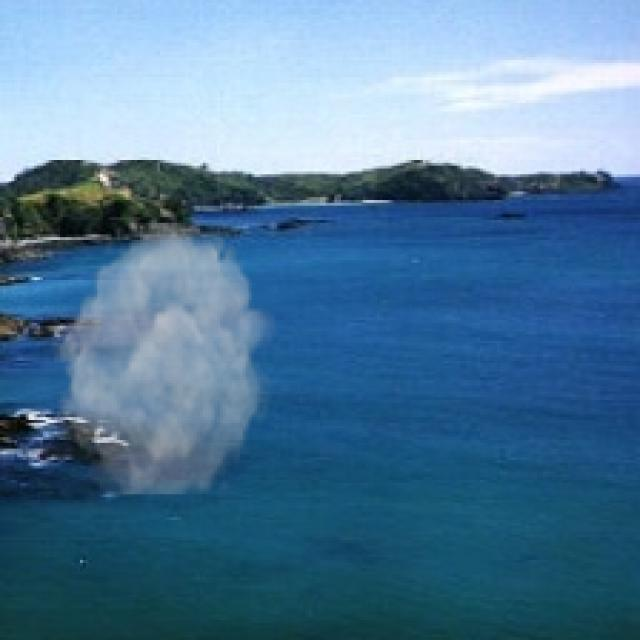smoke: (49, 223, 277, 494)
